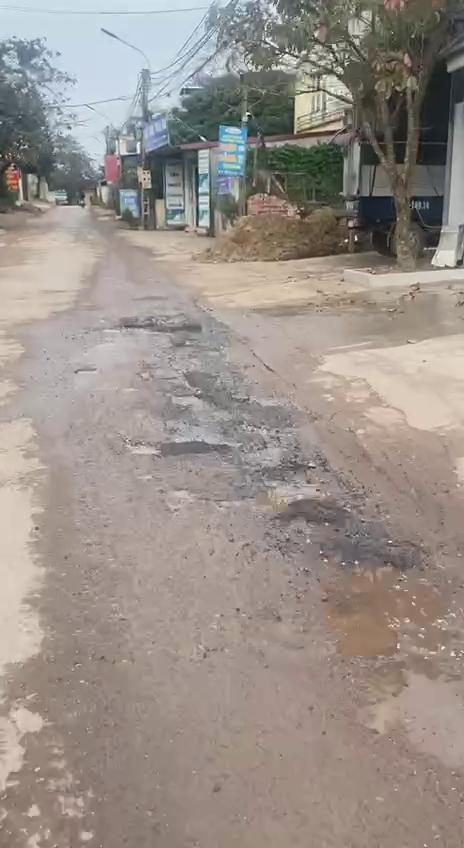pothole: (297, 541, 464, 703), (139, 385, 290, 468), (228, 475, 352, 548), (117, 319, 208, 344), (120, 437, 162, 457)
